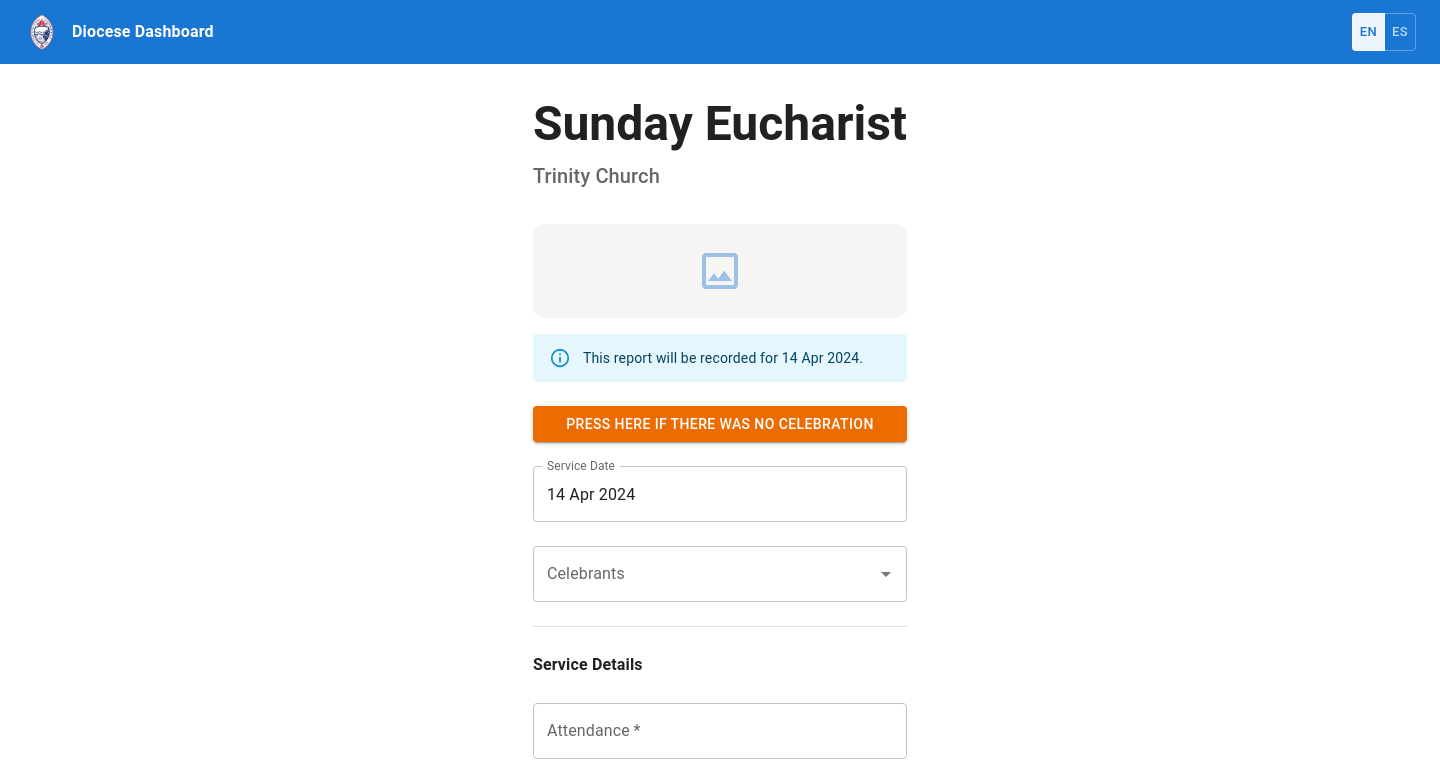
Scenario: ReporterLinkPage › submits zeroes for numeric/money items and omits strings when no-celebration clicked
The image size is (1440, 776).
Expected: the heading "Sunday Eucharist" is shown, left=533, top=96, right=907, bottom=152
Click the button "Press here if there was no celebration" at x=720, y=424, box left=533, top=406, right=907, bottom=442
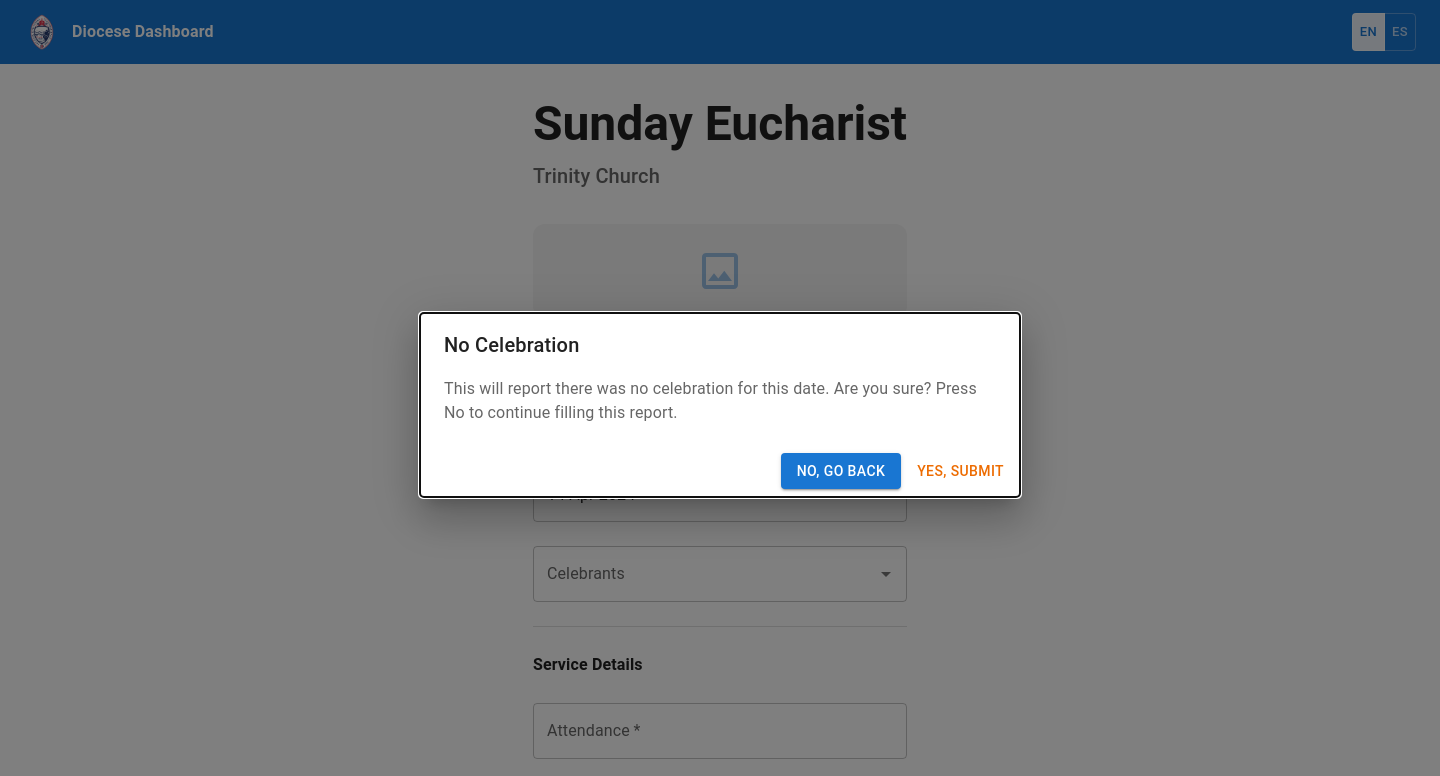
Expected: the dialog is shown, left=420, top=313, right=1020, bottom=497
Click the button "Yes, submit" at x=961, y=471, box left=909, top=453, right=1012, bottom=489
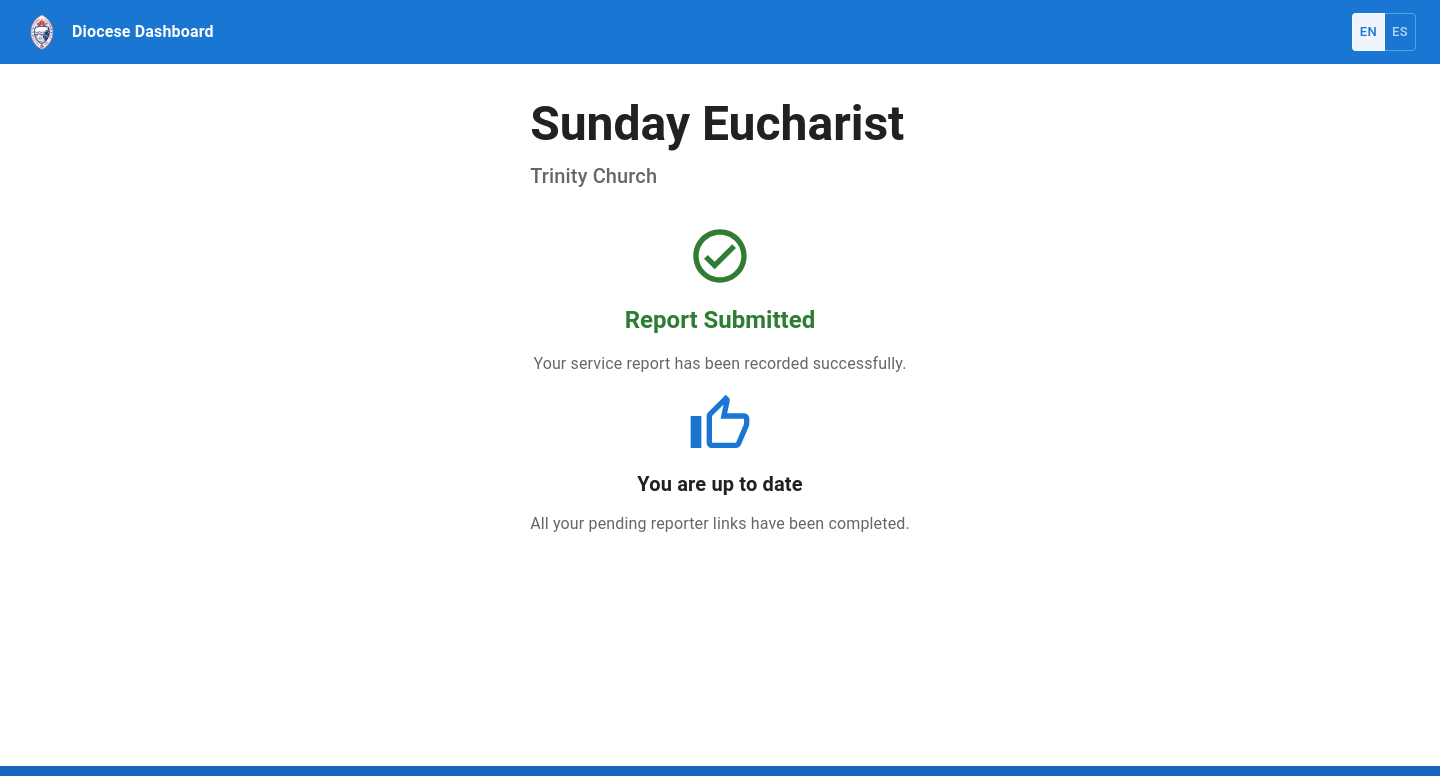
Expected: the heading "Report Submitted" is shown, left=625, top=304, right=815, bottom=336
